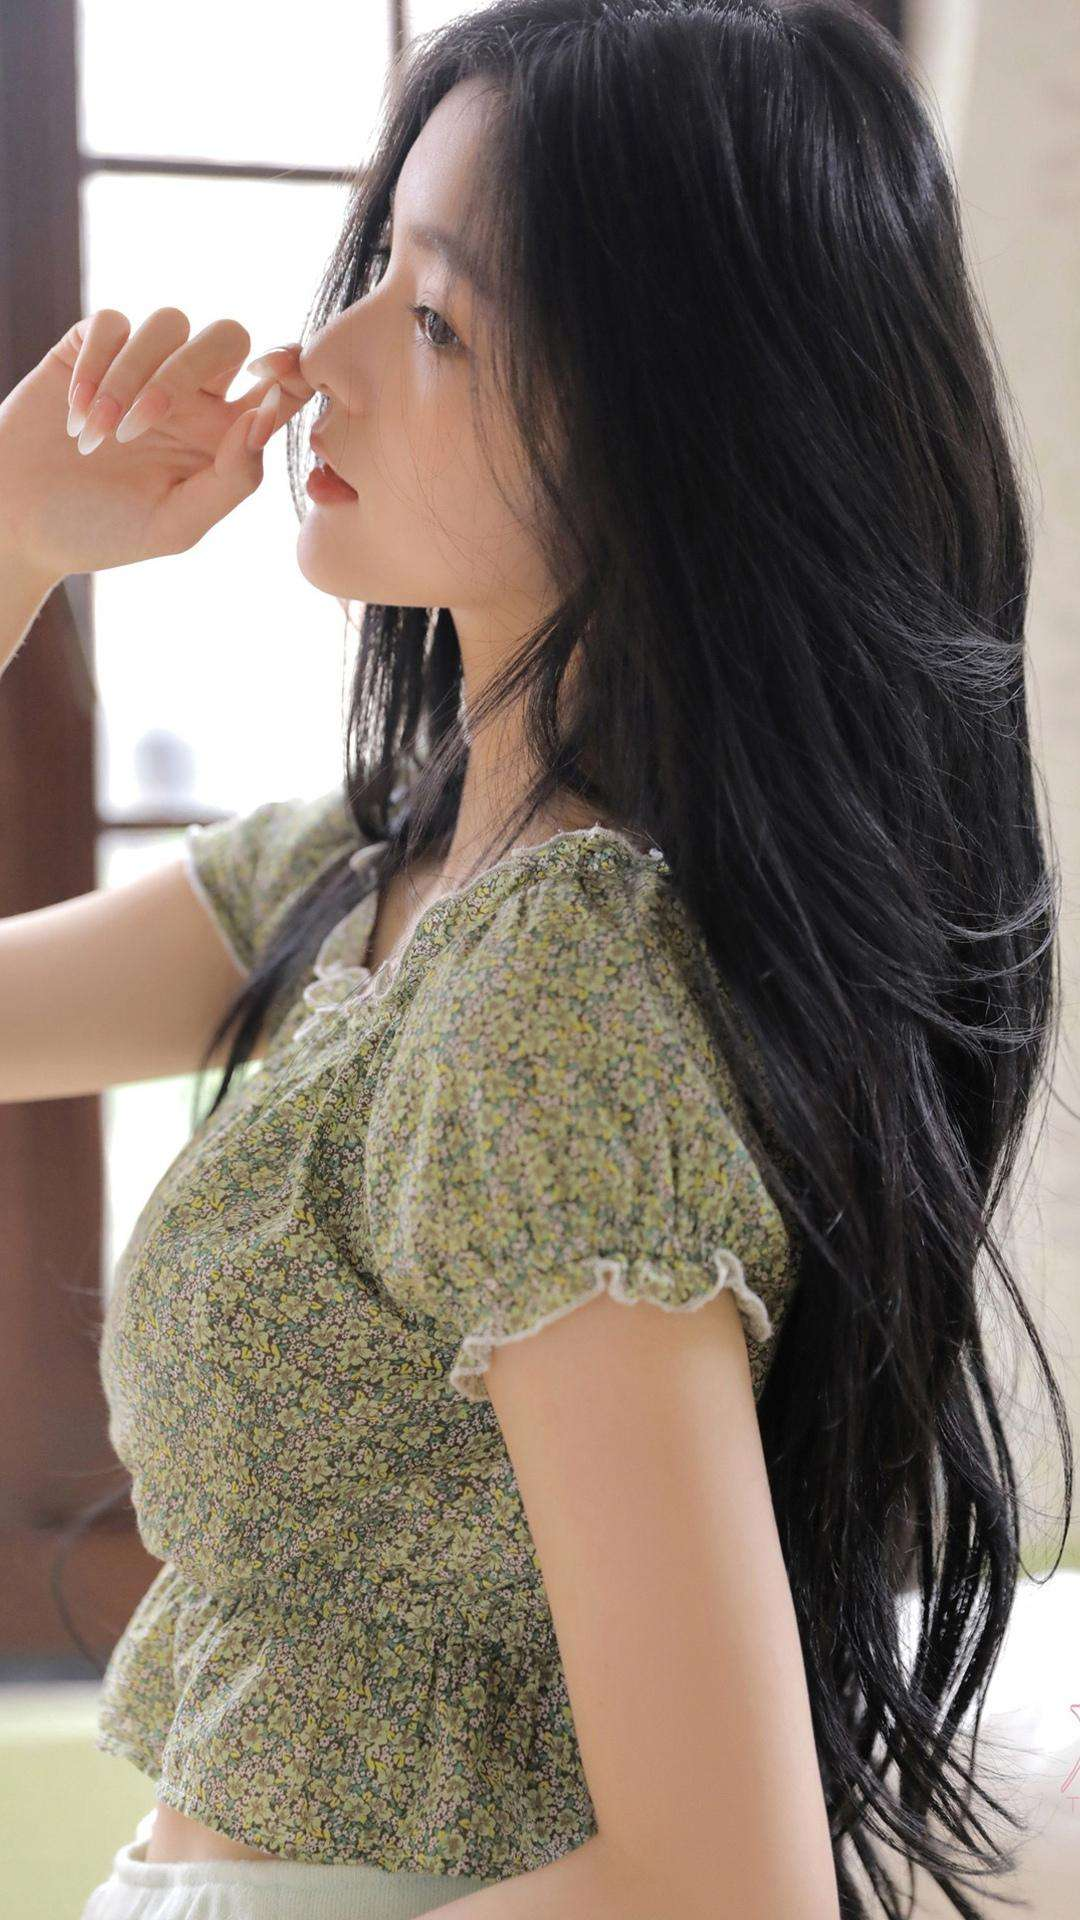person: (177, 53, 1024, 1733)
